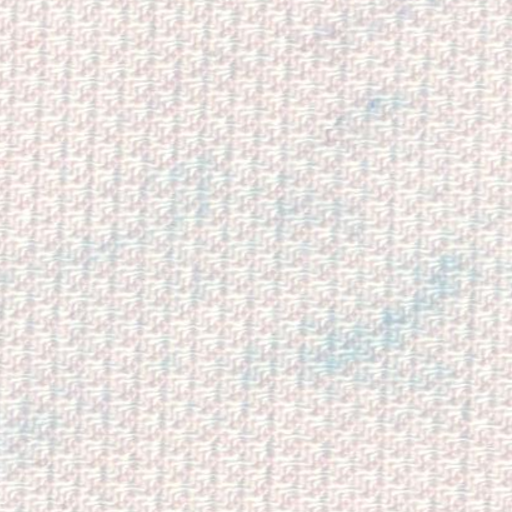WuZi: (305, 250, 492, 411), (120, 146, 324, 250), (318, 74, 428, 143)
